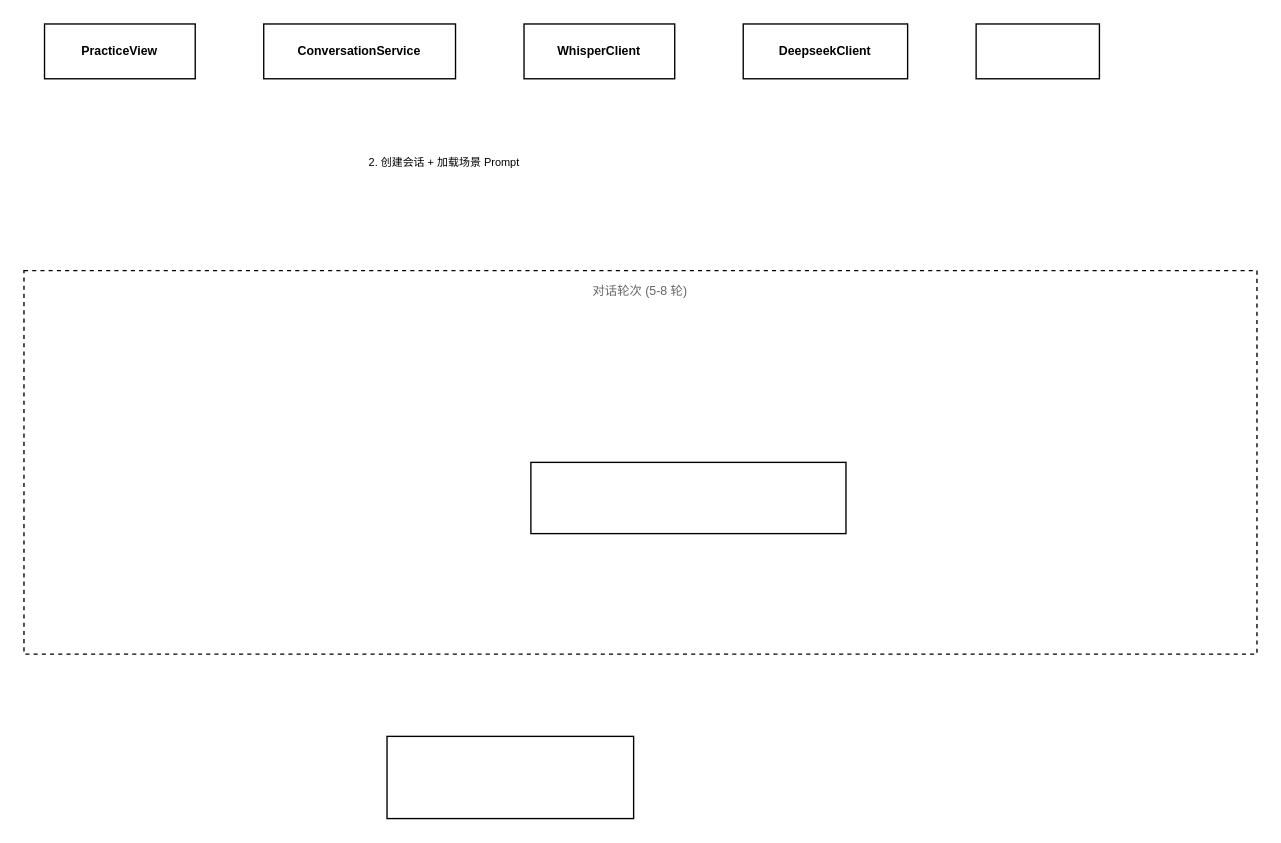
The diagram is 1281 pixels wide and 843 high, and some of its shapes have lost their labels. Here are the shapes that lost their labels. From the top down, the centre of each, then its label:
At pixel 1037 51: "TTSClient".
At pixel 688 497: "A1-A2:基础词库/慢语速/每轮提示 B1:中阶词库/正常语速/3轮提示 B2+:高阶词库/偏快语速/仅明显错误".
At pixel 510 777: "四维综合评分: 发音 30% + 语法 30% + 词汇 20% + 参与度 20%".
